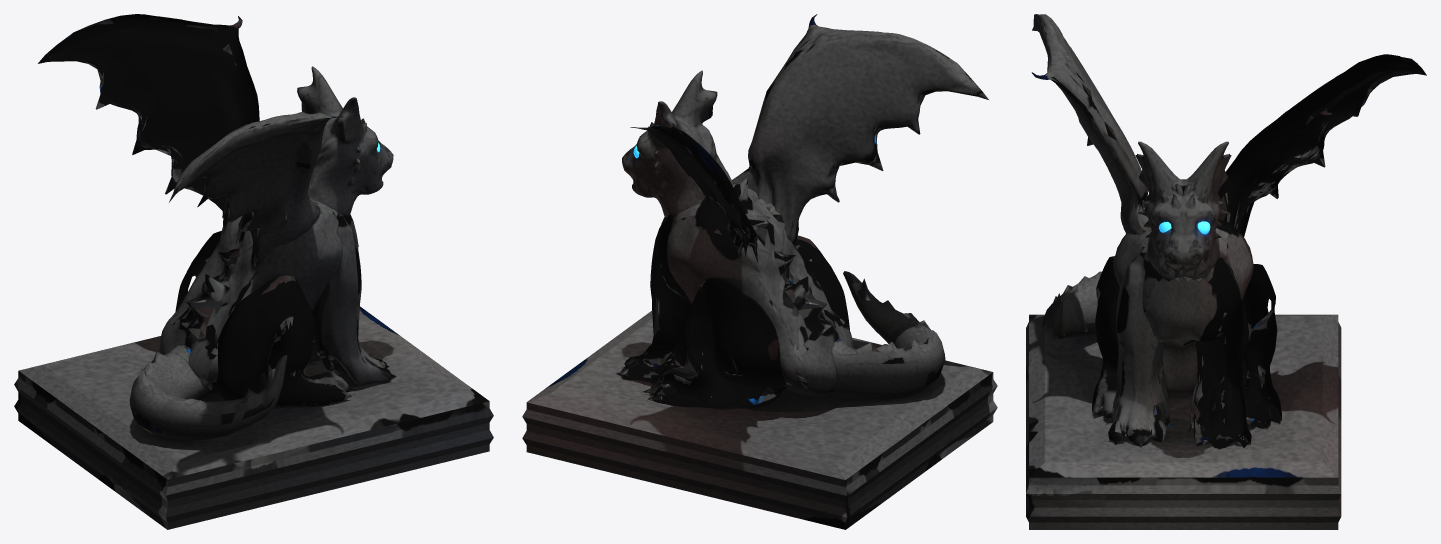
Rendered from gargoyle2.glb.
The picture shows the model from 3 angles, left to right: view 1: azimuth 30°, elevation 25°; view 2: azimuth 150°, elevation 25°; view 3: azimuth 270°, elevation 25°; orthographic projection. The views are drawn at different scales.
Parts seen in each view (by area): view 1: Cube, Icosphere.005, Icosphere.004, Sphere, Icosphere.002, Torus, Sphere.001, Icosphere, Icosphere.003; view 2: Cube, Icosphere.004, Sphere, Torus, Sphere.001, Icosphere.003, Icosphere.005, Icosphere.001, Icosphere.002; view 3: Cube, Sphere, Icosphere.005, Sphere.001, Icosphere, Icosphere.004, Icosphere.001, Icosphere.003, Icosphere.002, Torus.
Part boxes in pixels (x1,y1,x2,y2): Cube: [14, 306, 493, 529]; Icosphere.005: [38, 14, 259, 211]; Icosphere.004: [169, 111, 343, 267]; Sphere: [160, 201, 358, 393]; Icosphere.002: [214, 275, 356, 406]; Torus: [129, 344, 287, 440]; Sphere.001: [297, 66, 393, 215]; Icosphere: [313, 216, 396, 385]; Icosphere.003: [175, 231, 221, 311]; Cube: [522, 311, 997, 529]; Icosphere.004: [732, 14, 988, 244]; Sphere: [657, 178, 852, 396]; Torus: [827, 271, 945, 399]; Sphere.001: [622, 70, 733, 218]; Icosphere.003: [643, 278, 786, 408]; Icosphere.005: [630, 125, 758, 262]; Icosphere.001: [616, 214, 691, 382]; Icosphere.002: [794, 235, 849, 330]; Cube: [1026, 314, 1341, 529]; Sphere: [1113, 219, 1253, 394]; Icosphere.005: [1218, 54, 1426, 236]; Sphere.001: [1135, 141, 1231, 279]; Icosphere: [1108, 254, 1171, 447]; Icosphere.004: [1031, 14, 1151, 234]; Icosphere.001: [1188, 257, 1251, 447]; Icosphere.003: [1242, 264, 1281, 428]; Icosphere.002: [1092, 256, 1119, 420]; Torus: [1042, 271, 1101, 340].
Bounding box in the file's own units: 3.43 × 3.75 × 3.5.
Materials: 2 (1 with a texture image).
